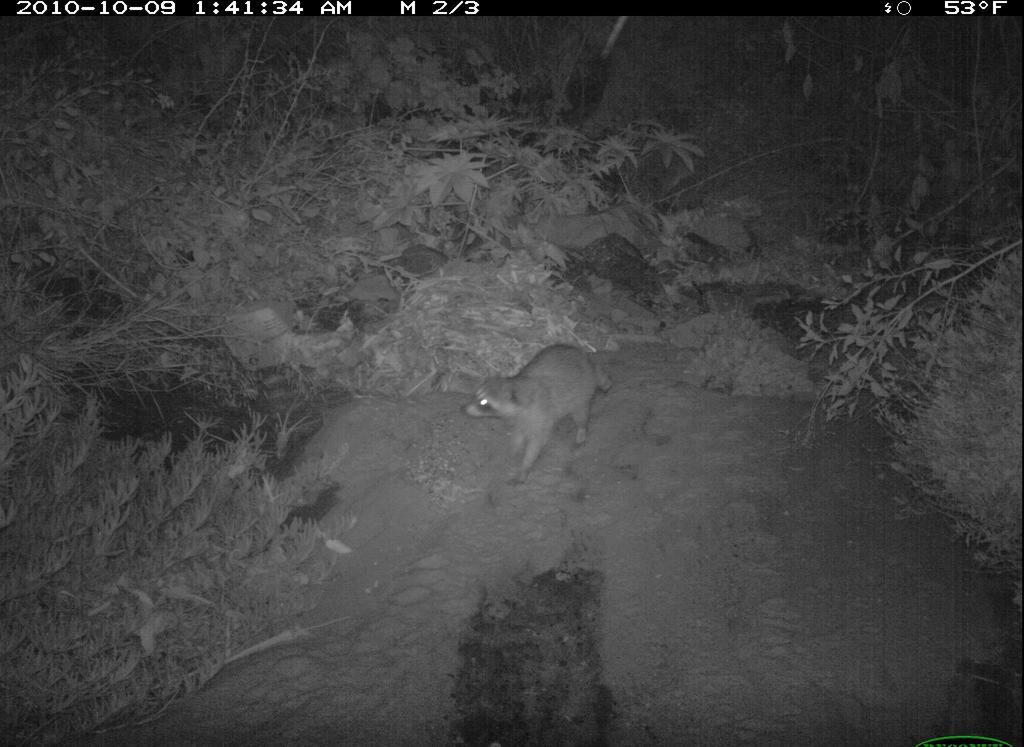raccoon: (457, 336, 621, 487)
